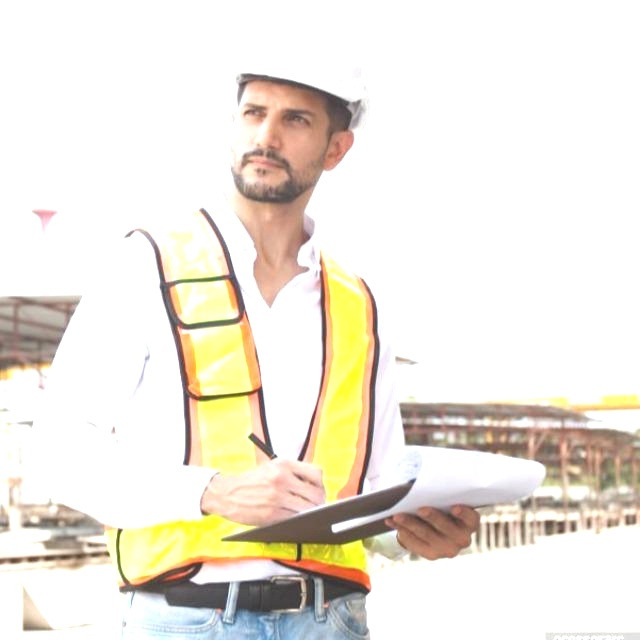Con_Casco: (225, 11, 371, 200)
Con_Chaleco: (95, 209, 404, 598)
